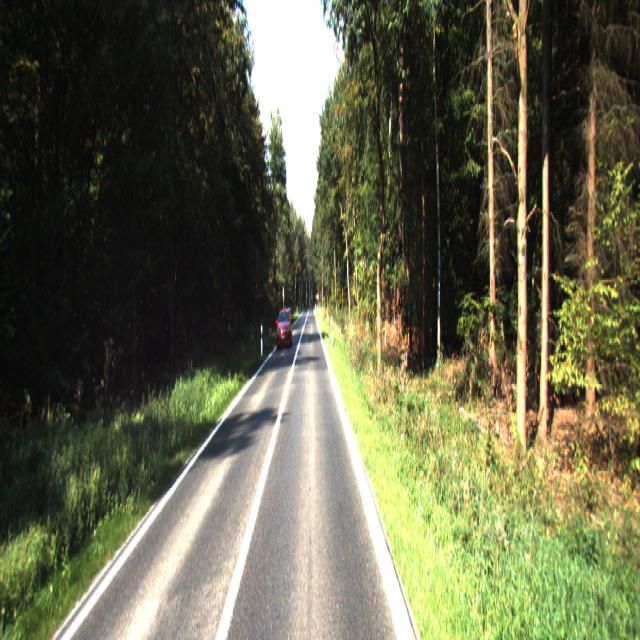Car: (276, 308, 292, 349)
